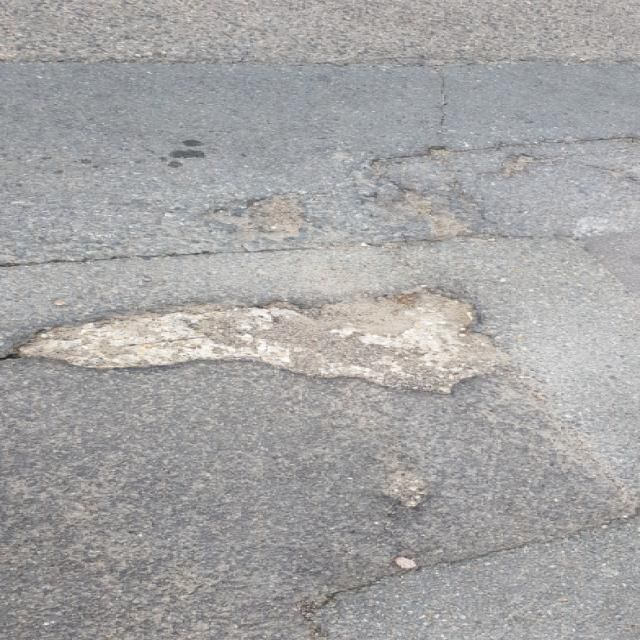pothole: (2, 280, 524, 399)
